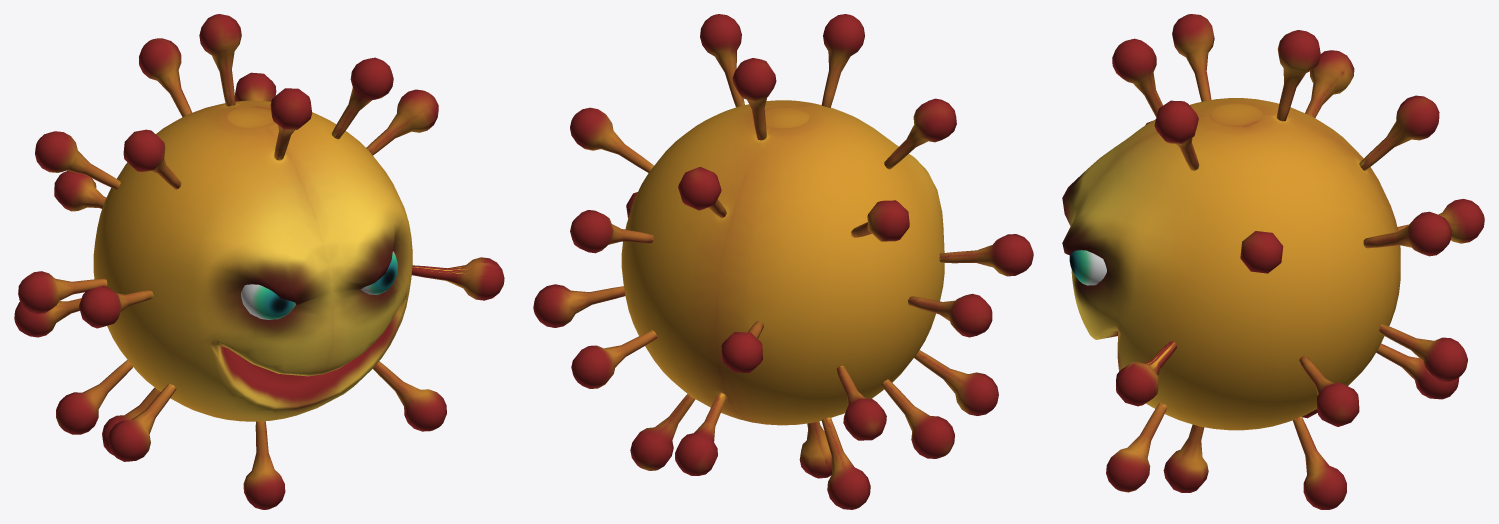
The model's file is Virus.fbx.
The picture shows the model from 3 angles, left to right: view 1: azimuth 30°, elevation 25°; view 2: azimuth 150°, elevation 25°; view 3: azimuth 270°, elevation 25°; orthographic projection. The views are drawn at different scales.
Visible parts, largest first — view 1: Basketball_Ball_Skin_Virus; view 2: Basketball_Ball_Skin_Virus; view 3: Basketball_Ball_Skin_Virus.
Part boxes in pixels (x1=…): Basketball_Ball_Skin_Virus: x1=14, y1=14, x2=504, y2=509; Basketball_Ball_Skin_Virus: x1=533, y1=14, x2=1033, y2=509; Basketball_Ball_Skin_Virus: x1=1062, y1=14, x2=1484, y2=509.
Size of the model in its own units: 0.3605 by 0.3694 by 0.3041.
Materials: 1 (1 with a texture image).
